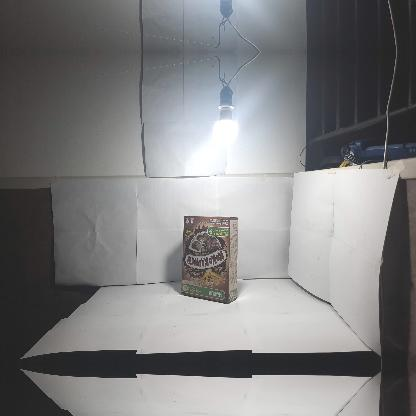Koko-Krunch: (180, 216, 238, 304)
